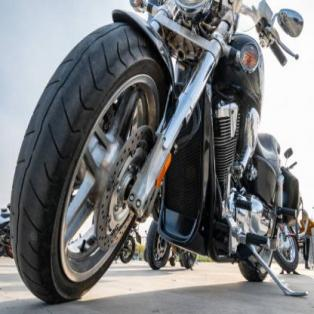Motocicleta: (10, 1, 313, 303)
